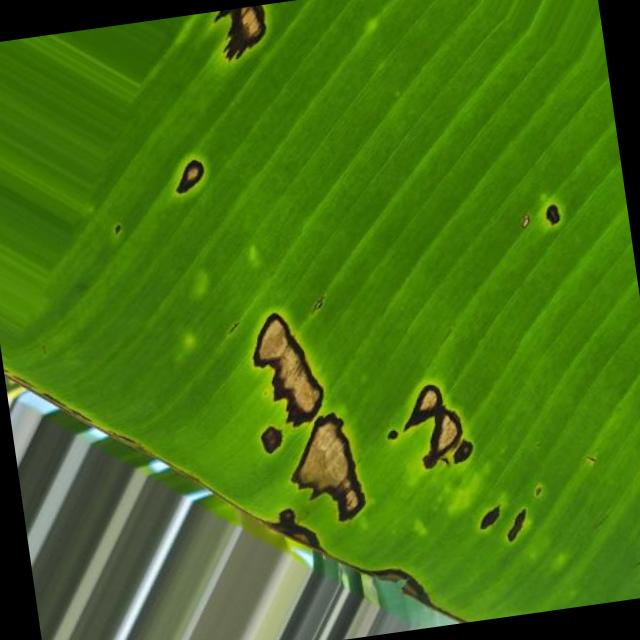Banana_Black_Sigatoka: (198, 231, 530, 621), (165, 0, 334, 70)
